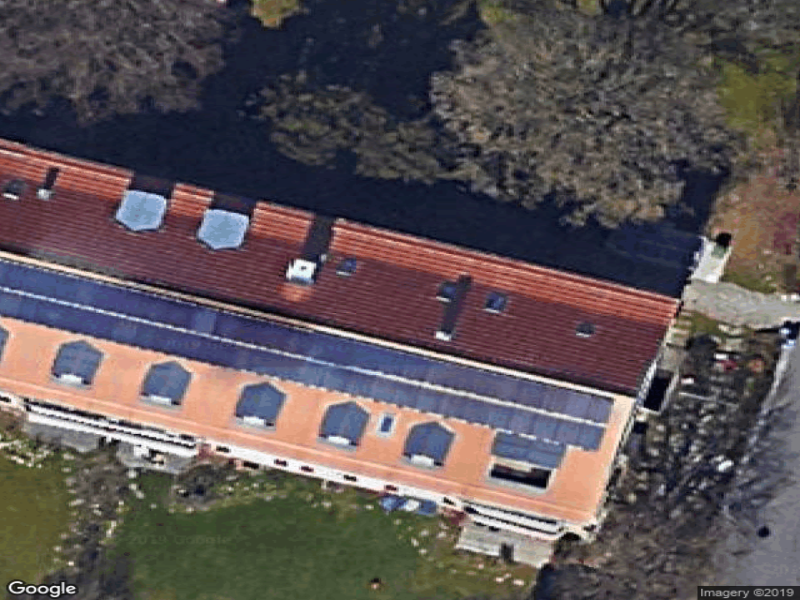pv: (1, 255, 617, 467)
